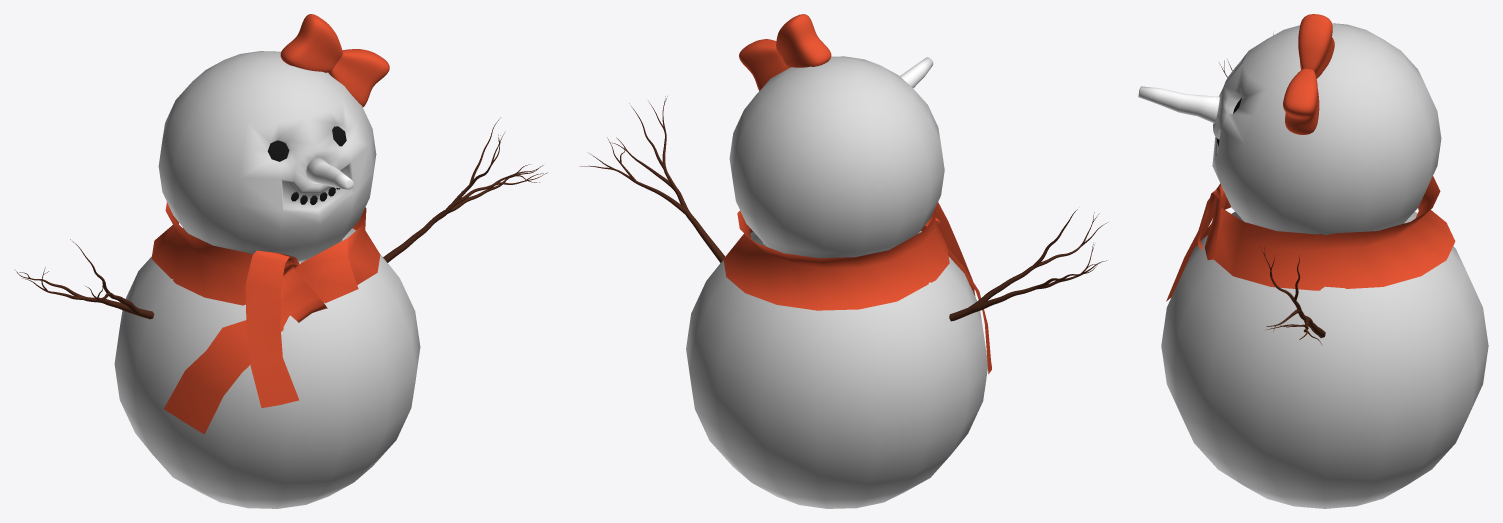
Rendered from snow_girl.glb.
3 renders of one model, left to right at view 1: azimuth 30°, elevation 25°; view 2: azimuth 150°, elevation 25°; view 3: azimuth 270°, elevation 25°, orthographic. The views are drawn at different scales.
Visible parts, largest first — view 1: body, scarf, bow, left arm, Right arm, Nose; view 2: body, scarf, bow, Right arm, left arm; view 3: body, scarf, bow, Nose, left arm.
Boxes of the visible parts, left/top/right/bottom form: body: left=114, top=51, right=420, bottom=508; scarf: left=151, top=202, right=380, bottom=434; bow: left=280, top=14, right=389, bottom=107; left arm: left=383, top=117, right=547, bottom=262; Right arm: left=14, top=239, right=154, bottom=319; Nose: left=306, top=157, right=353, bottom=189; body: left=686, top=56, right=987, bottom=508; scarf: left=723, top=202, right=991, bottom=374; bow: left=739, top=14, right=831, bottom=90; Right arm: left=949, top=209, right=1107, bottom=321; left arm: left=580, top=96, right=725, bottom=262; body: left=1161, top=23, right=1488, bottom=508; scarf: left=1166, top=176, right=1455, bottom=301; bow: left=1283, top=14, right=1334, bottom=134; Nose: left=1138, top=86, right=1219, bottom=123; left arm: left=1260, top=246, right=1325, bottom=345.
Bounding box in the file's own units: 3.93 × 3.24 × 2.14.
